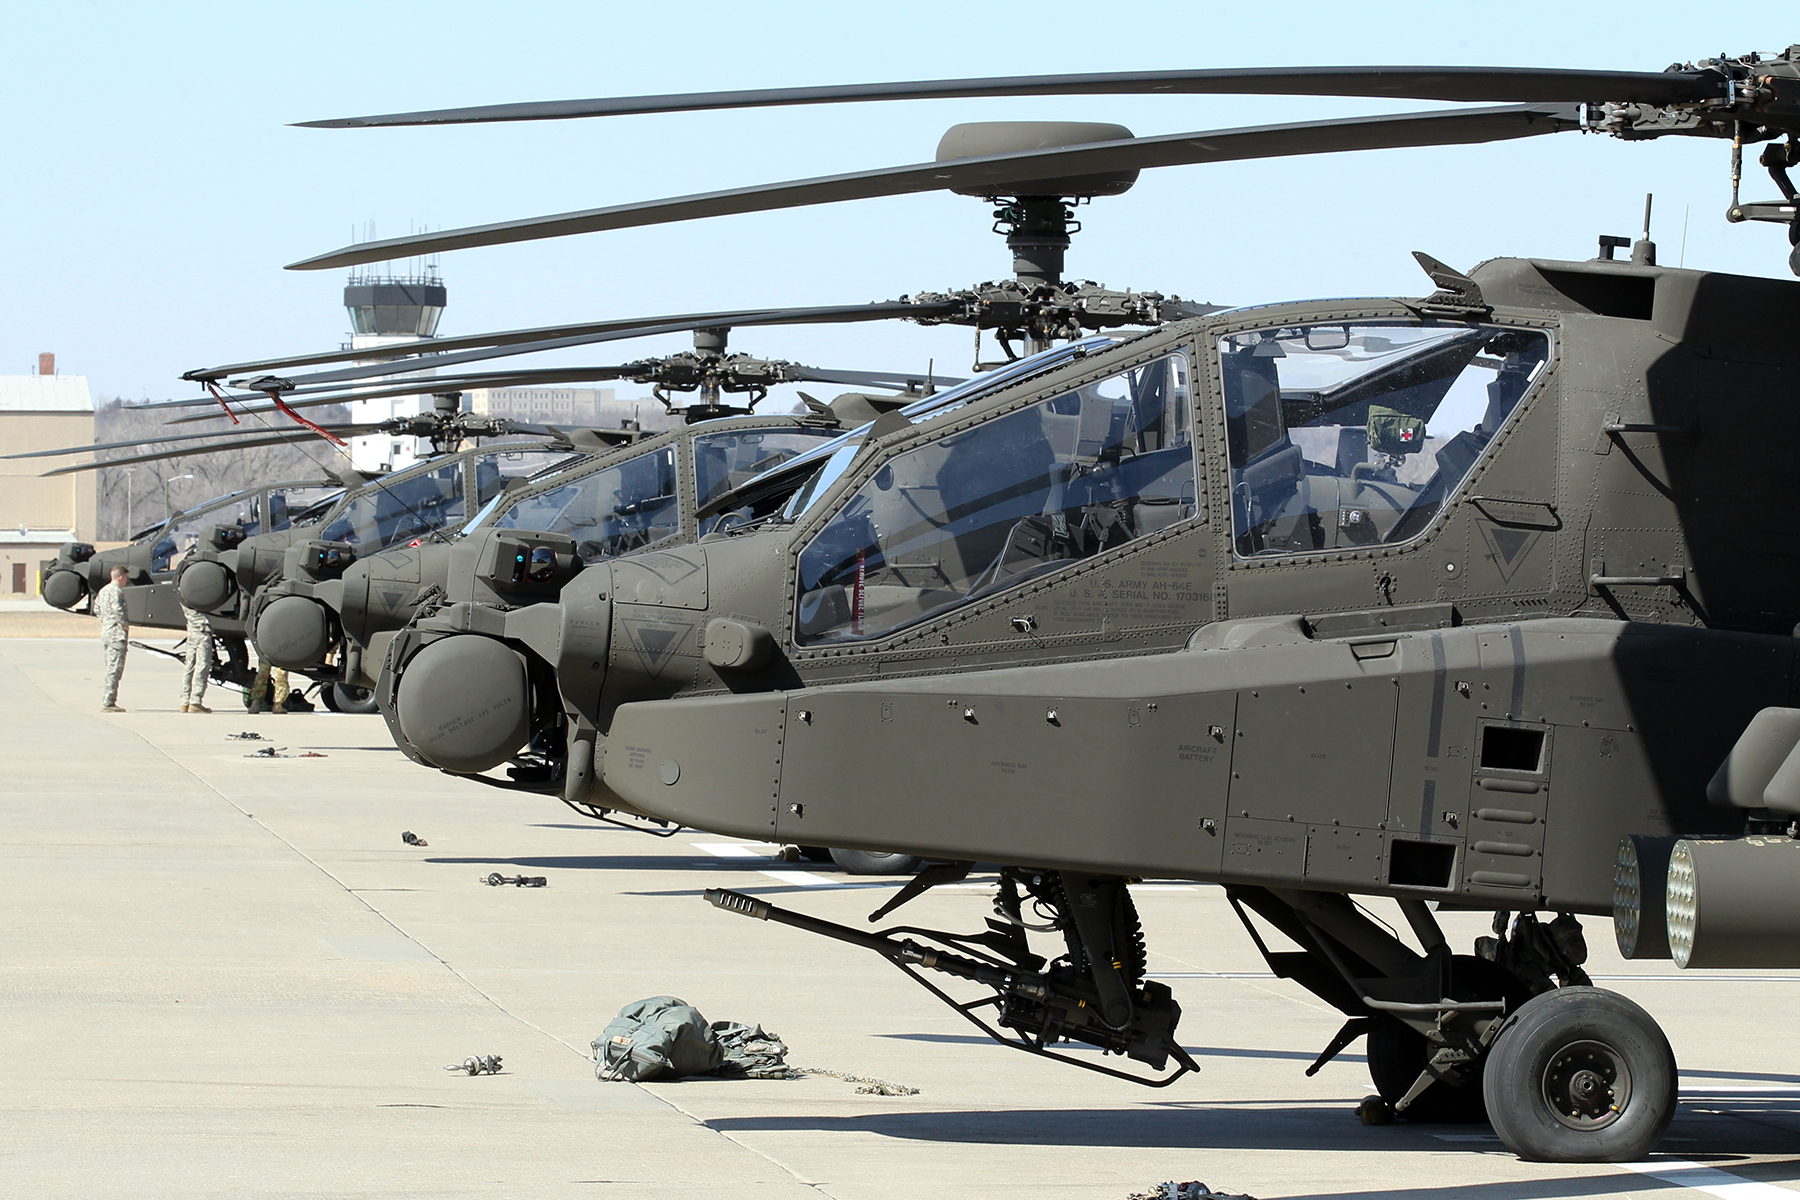MilitaryHelicopter: (526, 104, 1800, 1008)
